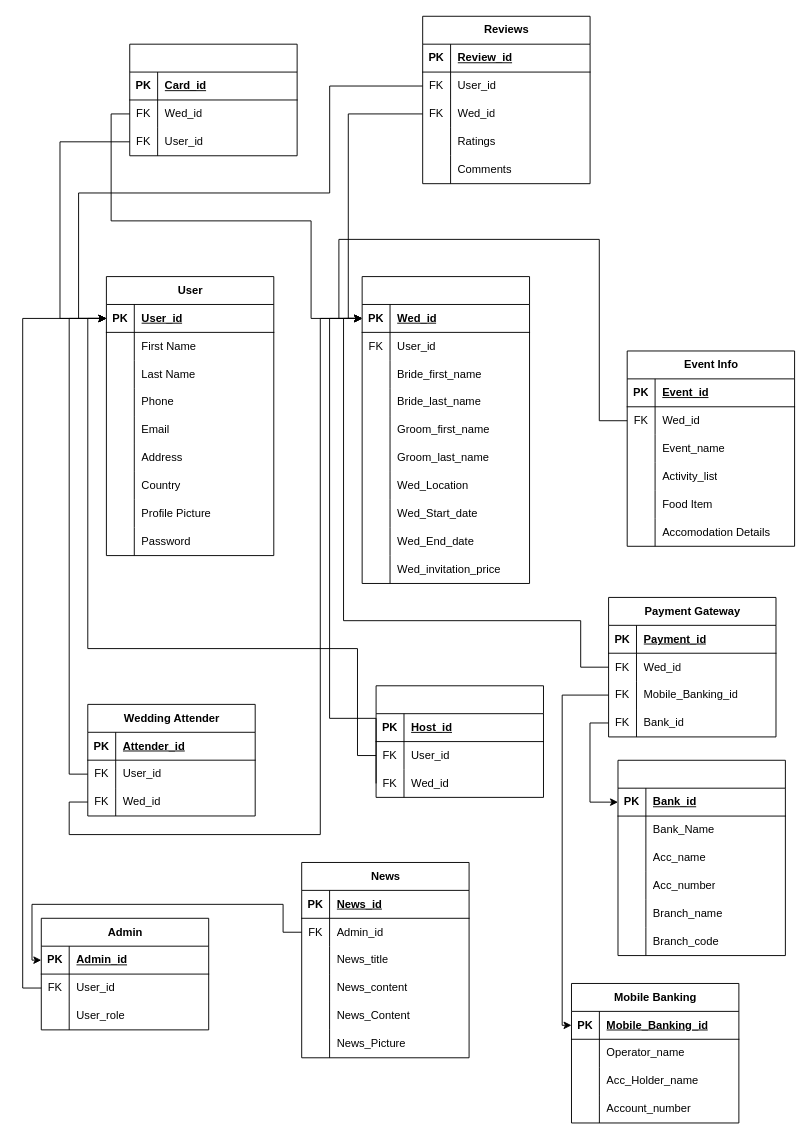
The diagram is 811 pixels wide and 1139 high, and some of its shapes have lost their labels. The box of each missing label's shape, as (x1, y1, x2, y2) in pixels:
Bank Info: (617, 759, 785, 956)
Invitation Card: (129, 43, 297, 156)
Wedding Host: (375, 685, 543, 797)
Wedding Info: (361, 276, 530, 583)
